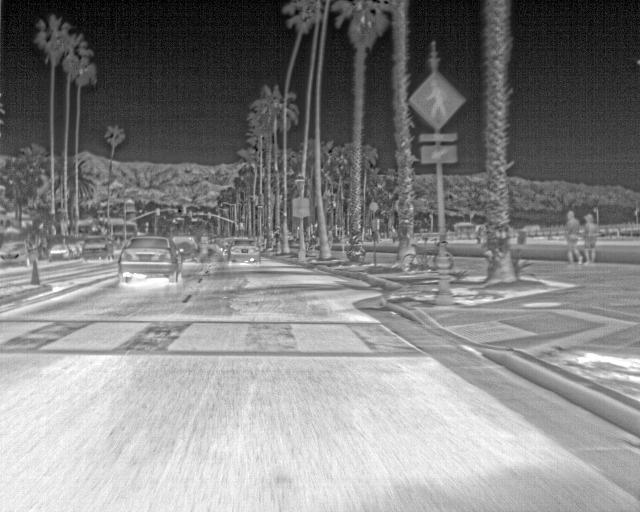bicycle: (117, 235, 181, 281), (0, 239, 34, 268), (226, 237, 260, 265), (79, 233, 111, 260), (44, 244, 74, 262)
empty: (562, 209, 582, 262), (580, 212, 599, 263)
